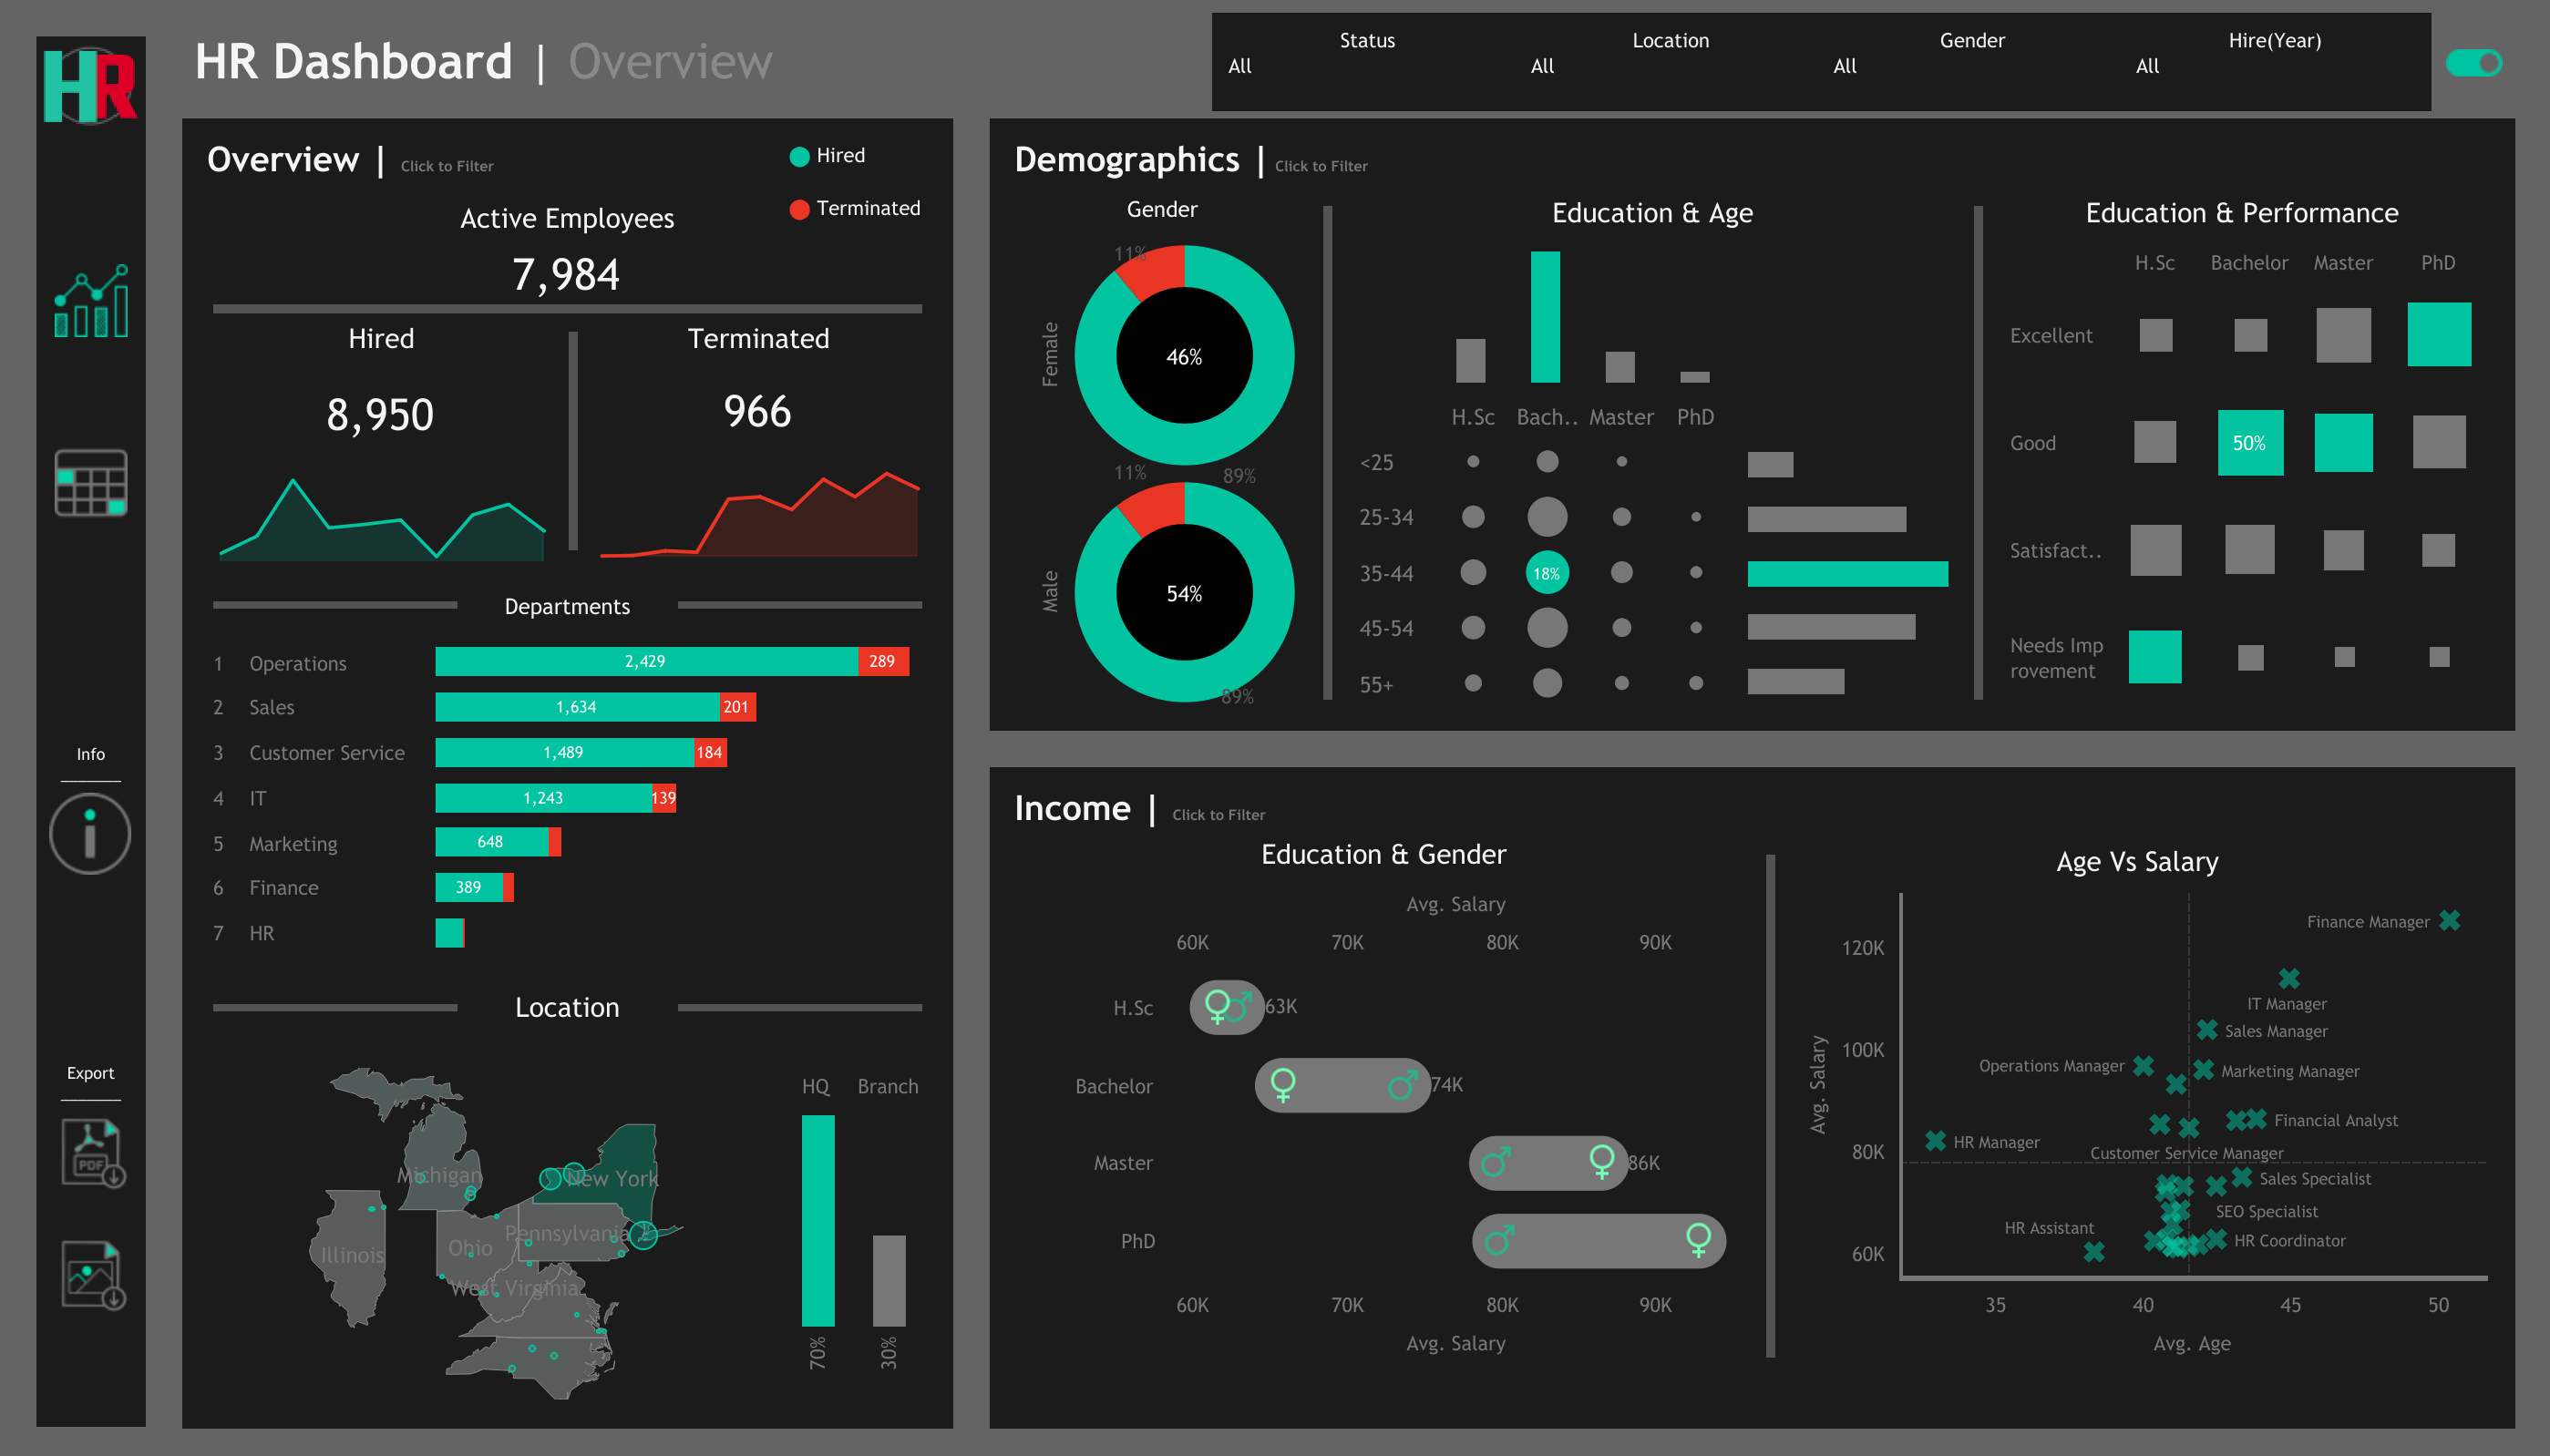

Layout of this report page (visuals, bound fields, positions):
{"tool":"tableau","page":{"name":"Dashboard 1 (2)","canvas":[1400,800],"ordinal":1},"visuals":[{"type":"text","box":[80,0,1301,800]},{"type":"text","box":[100,0,666,65]},{"type":"blank","box":[766,0,614,65]},{"type":"dashboard-object","box":[1341,14,33,42]},{"type":"image","param":"Image/3551d558-68c8-4fc7-9995-52ad7dc11302.png","box":[20,20,60,55]},{"type":"text","box":[110,65,41,35]},{"type":"dashboard-object","box":[151,65,25,35]},{"type":"blank","box":[176,65,32,35]},{"type":"text","box":[208,65,123,35]},{"type":"dashboard-object","box":[331,65,25,35]},{"type":"blank","box":[356,65,32,35]},{"type":"text","box":[388,65,120,35]},{"type":"dashboard-object","box":[508,65,25,35]},{"type":"blank","box":[533,65,32,35]},{"type":"text","box":[565,65,111,35]},{"type":"dashboard-object","box":[676,65,25,35]},{"type":"blank","box":[701,65,32,35]},{"type":"text","box":[733,65,127,35]},{"type":"dashboard-object","box":[860,65,25,35]},{"type":"blank","box":[885,65,32,35]},{"type":"text","box":[917,65,138,35]},{"type":"dashboard-object","box":[1055,65,25,35]},{"type":"blank","box":[1080,65,32,35]},{"type":"text","box":[1112,65,188,35]},{"type":"dashboard-object","box":[1300,65,25,35]},{"type":"blank","box":[20,75,60,60]},{"type":"worksheet","title":"Details","mark":"Shape","rows":["Employee_ID"],"cols":["Calculation_4275464215396847617","Calculation_4275464215396847617","Calculation_4275464215396847617","Calculation_4275464215396847617","Calculation_4275464215396847617","Calculation_4275464215400718339"],"box":[100,100,1280,680]},{"type":"filter","title":"Details","param":"[federated.18i1t2e0vxxa2v1em9e4h1sonuqy].[none:Calculation_4275464215397658626:n","box":[208,100,148,49]},{"type":"filter","title":"Details","param":"[federated.18i1t2e0vxxa2v1em9e4h1sonuqy].[none:Department:nk]","box":[392,100,141,49]},{"type":"filter","title":"Details","param":"[federated.18i1t2e0vxxa2v1em9e4h1sonuqy].[none:Calculation_3444198239801212928:n","box":[565,100,136,49]},{"type":"filter","title":"Details","param":"[federated.18i1t2e0vxxa2v1em9e4h1sonuqy].[none:Employee_ID:nk]","box":[119,109,66,31]},{"type":"filter","title":"Details","param":"[federated.18i1t2e0vxxa2v1em9e4h1sonuqy].[sum:Salary:qk]","box":[742,109,152,66]},{"type":"filter","title":"Details","param":"[federated.18i1t2e0vxxa2v1em9e4h1sonuqy].[none:Calculation_3850718475243843584:n","box":[926,109,163,47]},{"type":"filter","title":"Details","param":"[federated.18i1t2e0vxxa2v1em9e4h1sonuqy].[sum:Calculation_4275464215400718339:qk","box":[1121,109,213,60]},{"type":"dashboard-object","box":[30,145,40,40]},{"type":"filter","title":"Details","param":"[federated.18i1t2e0vxxa2v1em9e4h1sonuqy].[none:Gender:nk]","box":[208,149,148,49]},{"type":"filter","title":"Details","param":"[federated.18i1t2e0vxxa2v1em9e4h1sonuqy].[none:Job Title:nk]","box":[392,149,141,49]},{"type":"filter","title":"Details","param":"[federated.18i1t2e0vxxa2v1em9e4h1sonuqy].[none:City:nk]","box":[565,149,136,49]},{"type":"filter","title":"Details","param":"[federated.18i1t2e0vxxa2v1em9e4h1sonuqy].[yr:Hiredate:ok]","box":[926,156,163,47]},{"type":"blank","box":[30,185,40,60]},{"type":"filter","title":"Details","param":"[federated.18i1t2e0vxxa2v1em9e4h1sonuqy].[none:Calculation_3684085288957628419:n","box":[208,198,148,49]},{"type":"filter","title":"Details","param":"[federated.18i1t2e0vxxa2v1em9e4h1sonuqy].[none:State:nk]","box":[565,198,136,49]},{"type":"filter","title":"Details","param":"[federated.18i1t2e0vxxa2v1em9e4h1sonuqy].[yr:Termdate:ok]","box":[926,203,163,47]},{"type":"dashboard-object","box":[30,245,40,40]},{"type":"filter","title":"Details","param":"[federated.18i1t2e0vxxa2v1em9e4h1sonuqy].[none:Education Level:nk]","box":[208,247,148,49]},{"type":"blank","box":[20,299,60,100]},{"type":"text","box":[24,403,52,32]},{"type":"dashboard-object","box":[24,435,52,45]},{"type":"blank","box":[20,484,60,85]},{"type":"text","box":[30,579,40,30]},{"type":"dashboard-object","box":[30,609,40,49]},{"type":"blank","box":[30,658,40,18]},{"type":"dashboard-object","box":[30,676,40,49]}]}

Visuals, with their boxes in screenshot pixels (x1, y1, x2, y2), scaled from the page's 1400x800 canvas onto the 2550x1456 screenshot:
text: (left=146, top=0, right=2515, bottom=1455)
text: (left=182, top=0, right=1395, bottom=118)
blank: (left=1395, top=0, right=2514, bottom=118)
dashboard-object: (left=2442, top=26, right=2503, bottom=102)
image: (left=36, top=36, right=146, bottom=137)
text: (left=201, top=118, right=275, bottom=182)
dashboard-object: (left=275, top=118, right=321, bottom=182)
blank: (left=321, top=118, right=379, bottom=182)
text: (left=379, top=118, right=603, bottom=182)
dashboard-object: (left=603, top=118, right=648, bottom=182)
blank: (left=648, top=118, right=706, bottom=182)
text: (left=706, top=118, right=925, bottom=182)
dashboard-object: (left=925, top=118, right=971, bottom=182)
blank: (left=971, top=118, right=1029, bottom=182)
text: (left=1029, top=118, right=1231, bottom=182)
dashboard-object: (left=1231, top=118, right=1277, bottom=182)
blank: (left=1277, top=118, right=1335, bottom=182)
text: (left=1335, top=118, right=1567, bottom=182)
dashboard-object: (left=1567, top=118, right=1612, bottom=182)
blank: (left=1612, top=118, right=1671, bottom=182)
text: (left=1671, top=118, right=1921, bottom=182)
dashboard-object: (left=1921, top=118, right=1967, bottom=182)
blank: (left=1967, top=118, right=2025, bottom=182)
text: (left=2025, top=118, right=2368, bottom=182)
dashboard-object: (left=2368, top=118, right=2413, bottom=182)
blank: (left=36, top=137, right=146, bottom=246)
"Details" worksheet (Shape marks): (left=182, top=182, right=2514, bottom=1420)
"Details" filter: (left=379, top=182, right=648, bottom=272)
"Details" filter: (left=714, top=182, right=971, bottom=272)
"Details" filter: (left=1029, top=182, right=1277, bottom=272)
"Details" filter: (left=217, top=199, right=337, bottom=255)
"Details" filter: (left=1352, top=199, right=1629, bottom=319)
"Details" filter: (left=1687, top=199, right=1983, bottom=284)
"Details" filter: (left=2041, top=199, right=2430, bottom=308)
dashboard-object: (left=55, top=264, right=128, bottom=337)
"Details" filter: (left=379, top=272, right=648, bottom=361)
"Details" filter: (left=714, top=272, right=971, bottom=361)
"Details" filter: (left=1029, top=272, right=1277, bottom=361)
"Details" filter: (left=1687, top=284, right=1983, bottom=369)
blank: (left=55, top=337, right=128, bottom=446)
"Details" filter: (left=379, top=361, right=648, bottom=449)
"Details" filter: (left=1029, top=361, right=1277, bottom=449)
"Details" filter: (left=1687, top=369, right=1983, bottom=455)
dashboard-object: (left=55, top=446, right=128, bottom=518)
"Details" filter: (left=379, top=449, right=648, bottom=538)
blank: (left=36, top=544, right=146, bottom=726)
text: (left=44, top=733, right=139, bottom=792)
dashboard-object: (left=44, top=792, right=139, bottom=874)
blank: (left=36, top=881, right=146, bottom=1036)
text: (left=55, top=1054, right=128, bottom=1108)
dashboard-object: (left=55, top=1108, right=128, bottom=1197)
blank: (left=55, top=1197, right=128, bottom=1230)
dashboard-object: (left=55, top=1230, right=128, bottom=1319)
